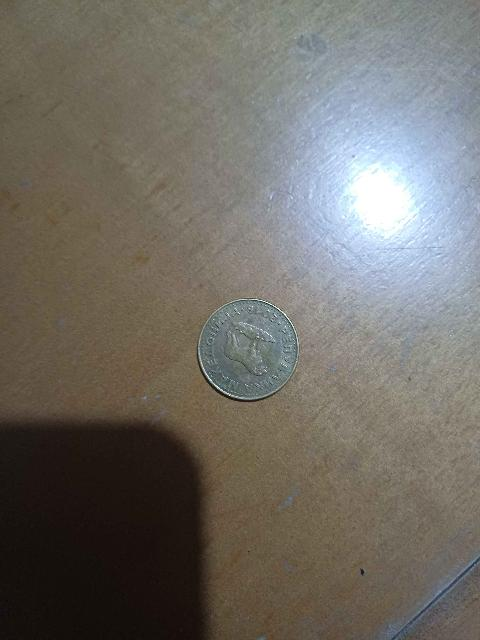coin: (198, 299, 298, 399)
